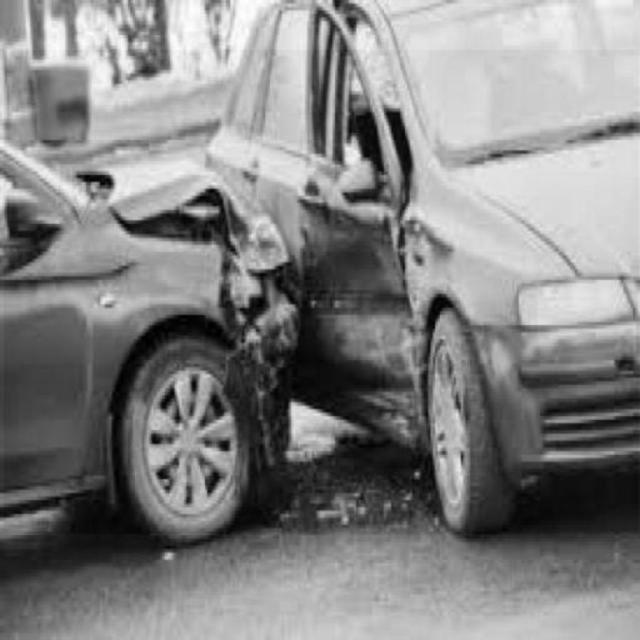accident: (4, 50, 638, 534)
